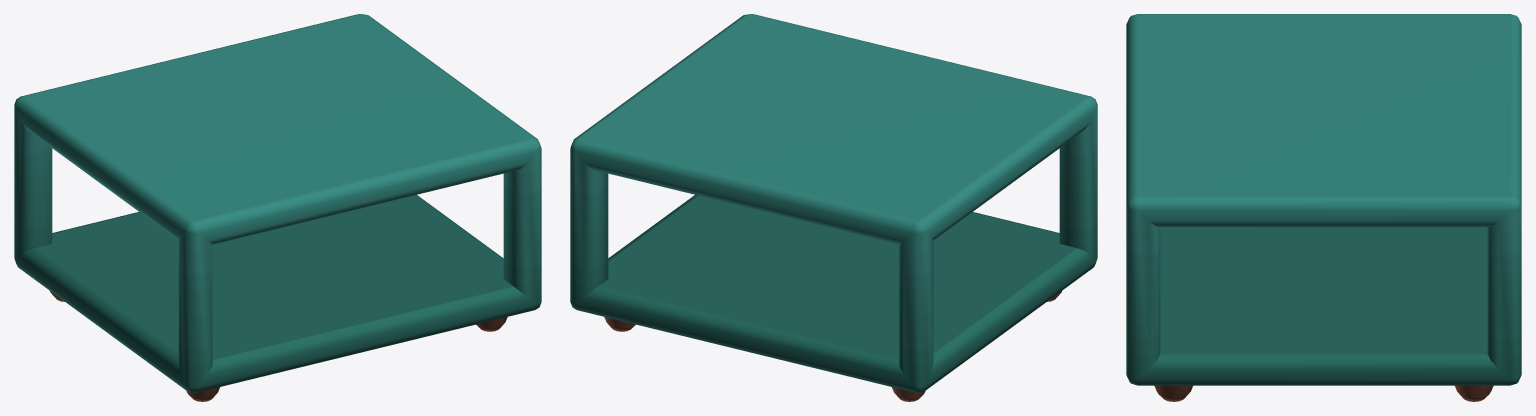
Rendered from Coffee_Table_06.glb.
The picture shows the model from 3 angles, left to right: view 1: azimuth 30°, elevation 25°; view 2: azimuth 150°, elevation 25°; view 3: azimuth 270°, elevation 25°; orthographic projection. The views are drawn at different scales.
Parts seen in each view (by area): view 1: Coffee_Table_06; view 2: Coffee_Table_06; view 3: Coffee_Table_06.
Boxes of the visible parts, x1=… form: Coffee_Table_06: x1=14, y1=14, x2=541, y2=401; Coffee_Table_06: x1=570, y1=14, x2=1097, y2=401; Coffee_Table_06: x1=1126, y1=14, x2=1521, y2=401.
Size of the model in its own units: 0.8 by 0.42 by 0.7.
1 material, 1 textured.
